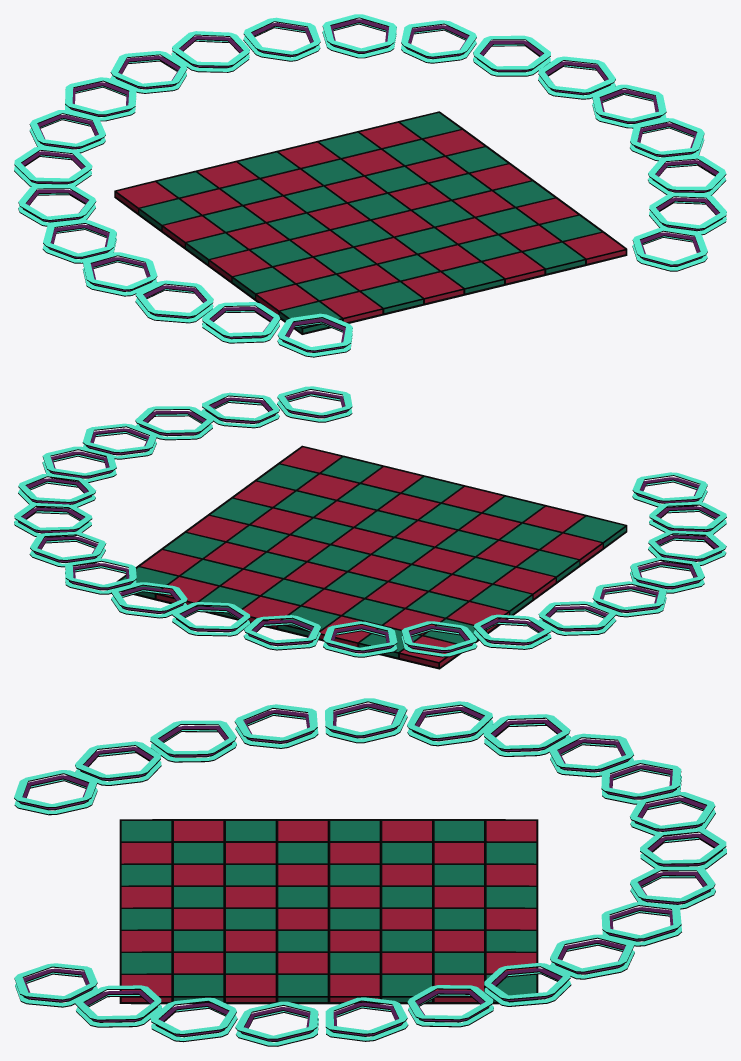
Rendered from FunLargeLvl2DanceFloor.fbx.
3 renders of one model, top to bottom at view 1: azimuth 30°, elevation 25°; view 2: azimuth 150°, elevation 25°; view 3: azimuth 270°, elevation 25°, orthographic. The views are drawn at different scales.
Parts seen in each view (by area): view 1: DanceFloorL2; view 2: DanceFloorL2; view 3: DanceFloorL2.
Part boxes in pixels (left/top/right/bottom): DanceFloorL2: left=14, top=14, right=726, bottom=357; DanceFloorL2: left=14, top=386, right=726, bottom=669; DanceFloorL2: left=14, top=698, right=726, bottom=1046.
Size of the model in its own units: 457 by 45.83 by 410.
